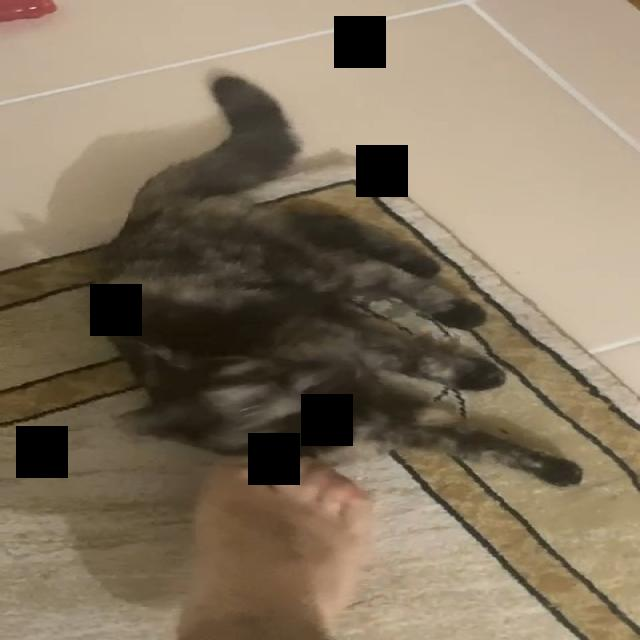authorized: (87, 68, 582, 488)
